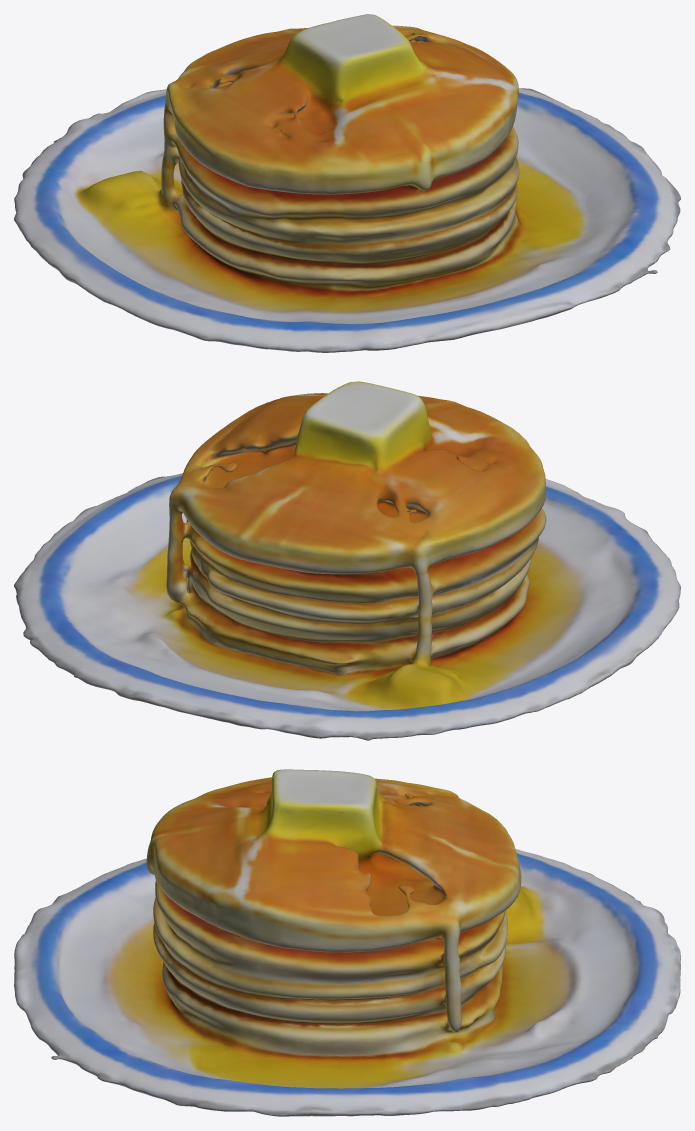
Rendered from ceae565dbf2b_pancakes_with_a_lot.fbx.
The picture shows the model from 3 angles, top to bottom: view 1: azimuth 30°, elevation 25°; view 2: azimuth 150°, elevation 25°; view 3: azimuth 270°, elevation 25°; orthographic projection. The views are drawn at different scales.
Parts seen in each view (by area): view 1: high_poly; view 2: high_poly; view 3: high_poly.
Part boxes in pixels (left/top/right/bottom): high_poly: left=14, top=14, right=680, bottom=352; high_poly: left=14, top=381, right=680, bottom=740; high_poly: left=14, top=769, right=680, bottom=1116.
Bounding box in the file's own units: 100 × 35.83 × 99.96.
